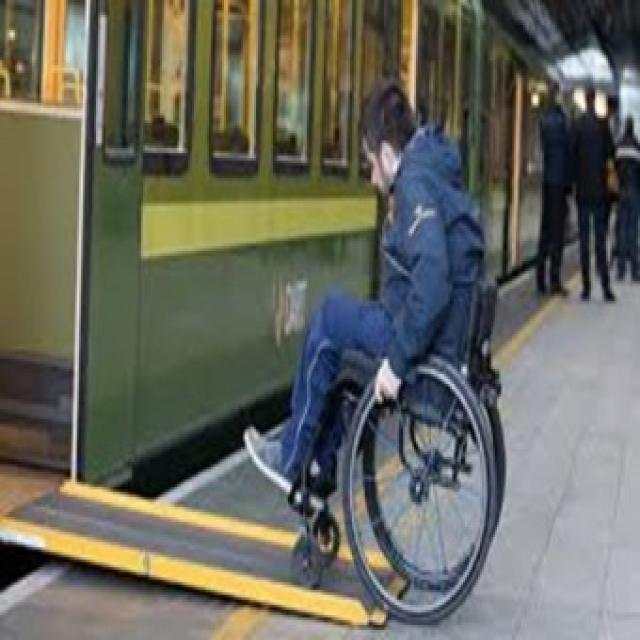wheelchair: (245, 83, 508, 621)
